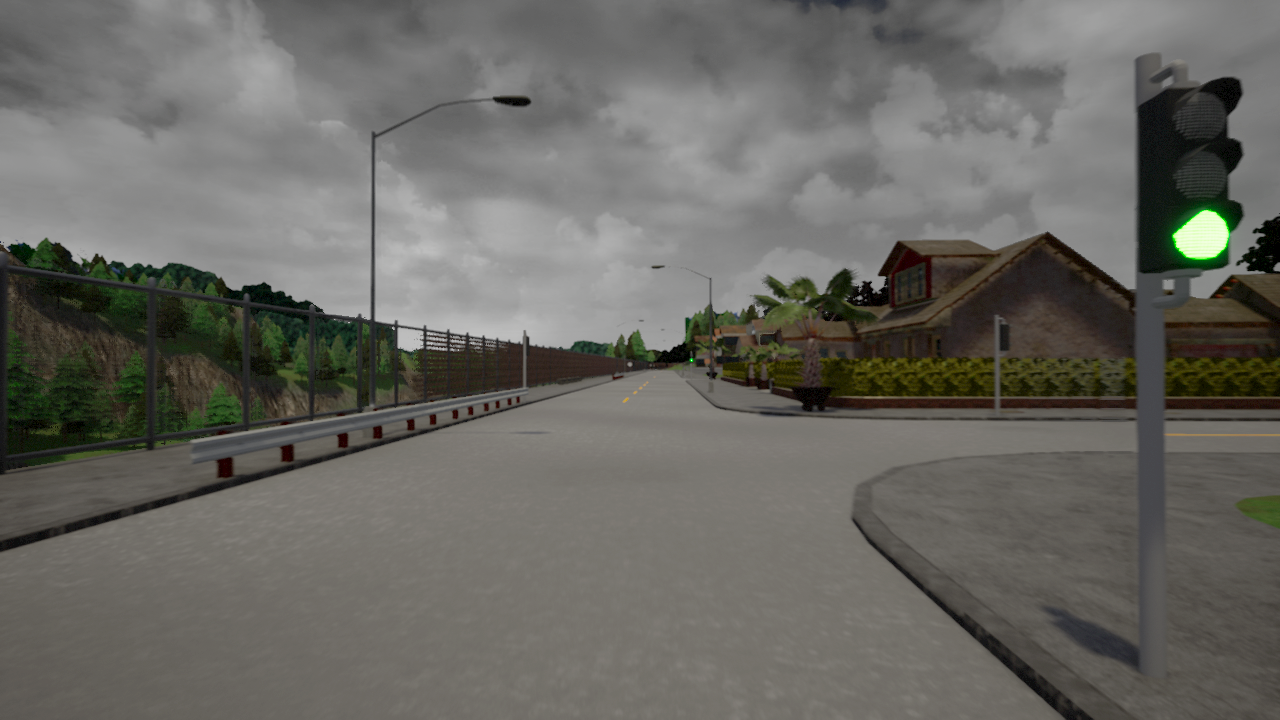green: (1150, 74, 1261, 296)
